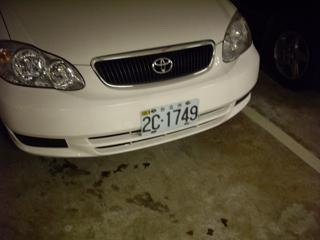plate: (141, 96, 198, 135)
